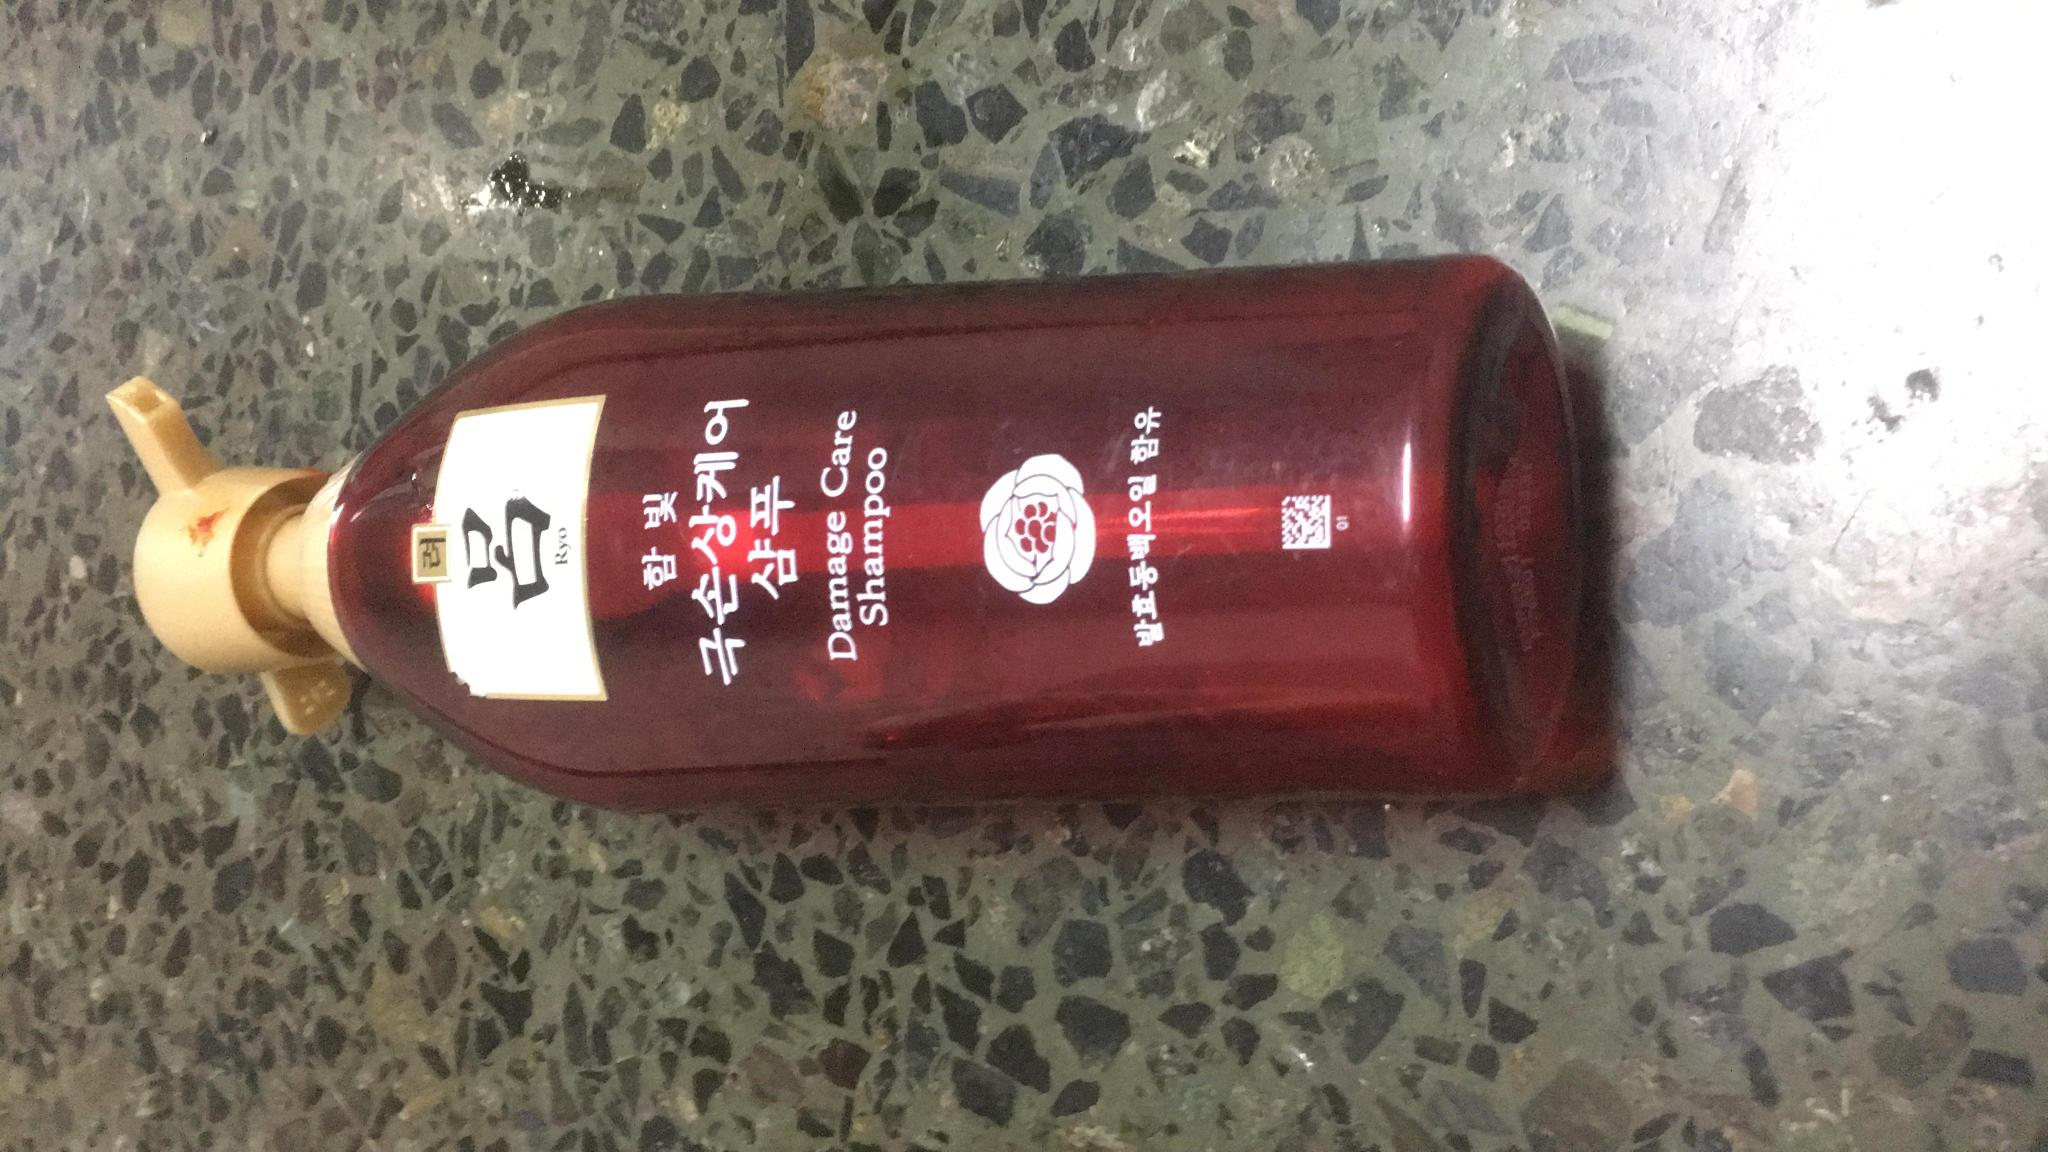bottle: (69, 266, 1616, 806)
